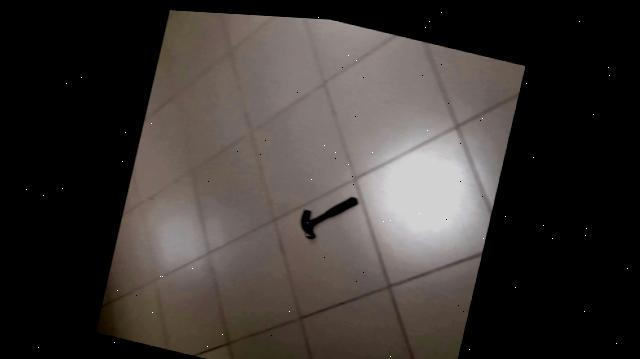hammer: (295, 173, 364, 248)
